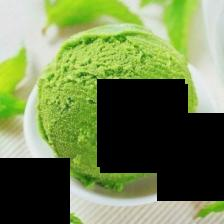green: (37, 25, 197, 191), (14, 169, 83, 224), (45, 0, 143, 30), (164, 0, 199, 59), (0, 47, 27, 118), (197, 193, 224, 218)
